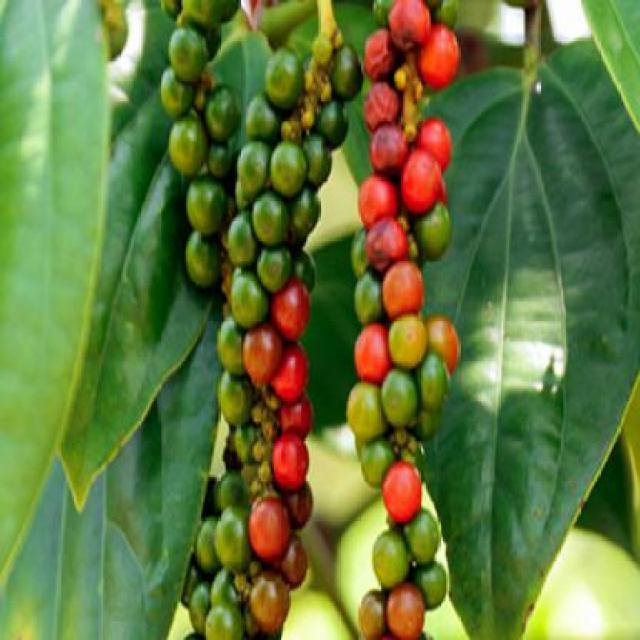RIPE: (356, 10, 445, 639), (239, 306, 328, 602)
